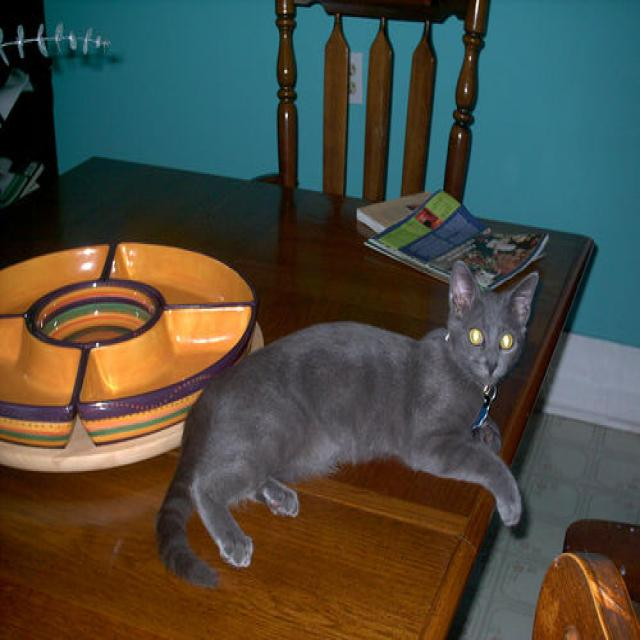cat: (154, 259, 543, 590)
chair: (248, 1, 491, 206)
diningtable: (1, 153, 599, 639)
